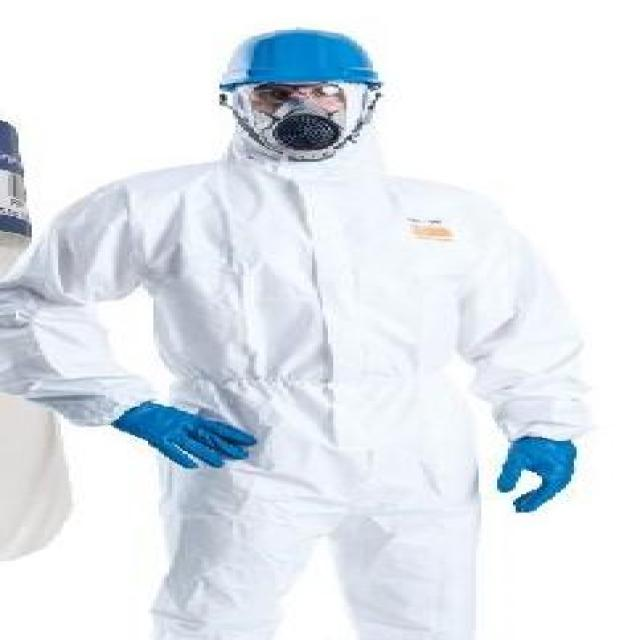Coverall: (32, 24, 593, 640)
Gloves: (465, 431, 595, 524), (110, 400, 267, 475)
Goggles: (214, 82, 381, 103)
Mask: (238, 105, 368, 153)
